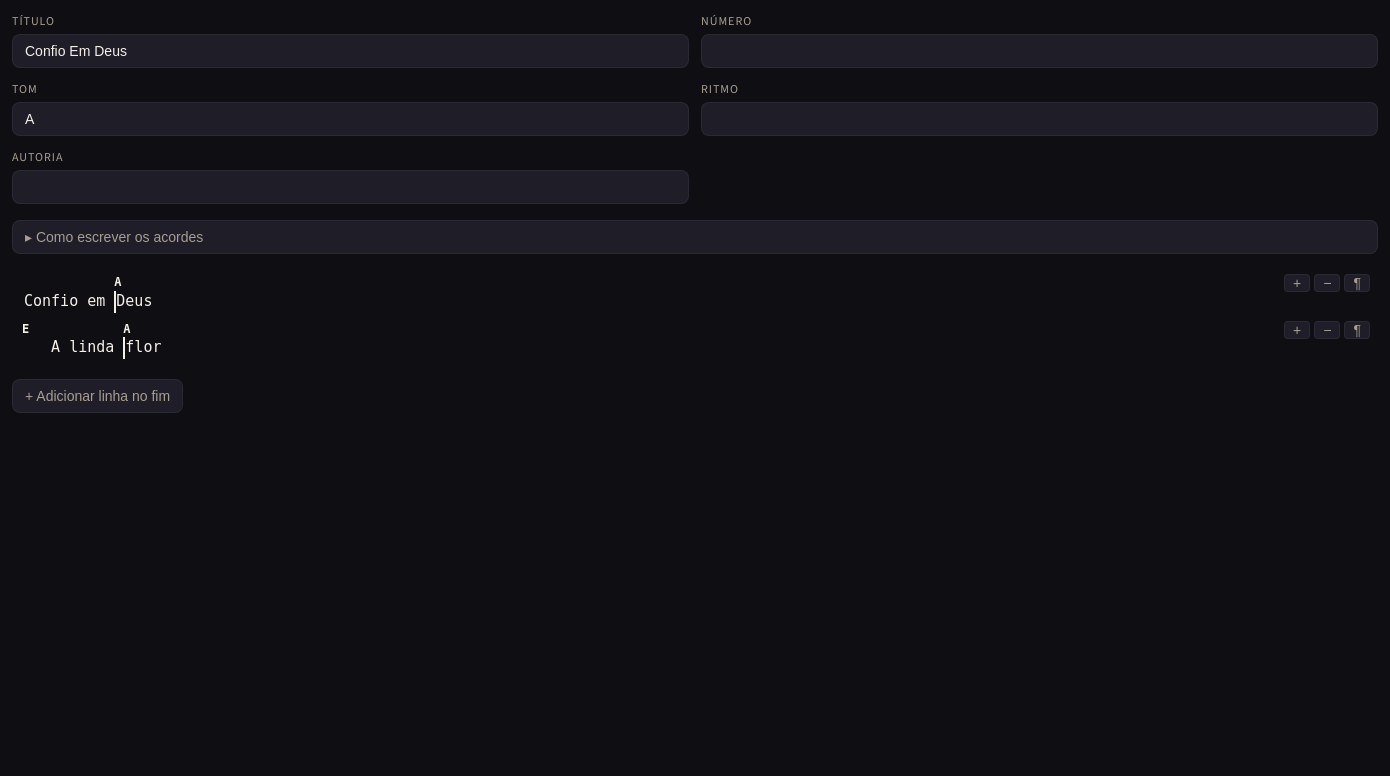
Test case: inserir símbolo do painel de dicas › cai na posição do cursor, devolve o foco e deixa o cursor depois do símbolo
Click the text "Confio em" at (68, 302), box [22,291,114,313]
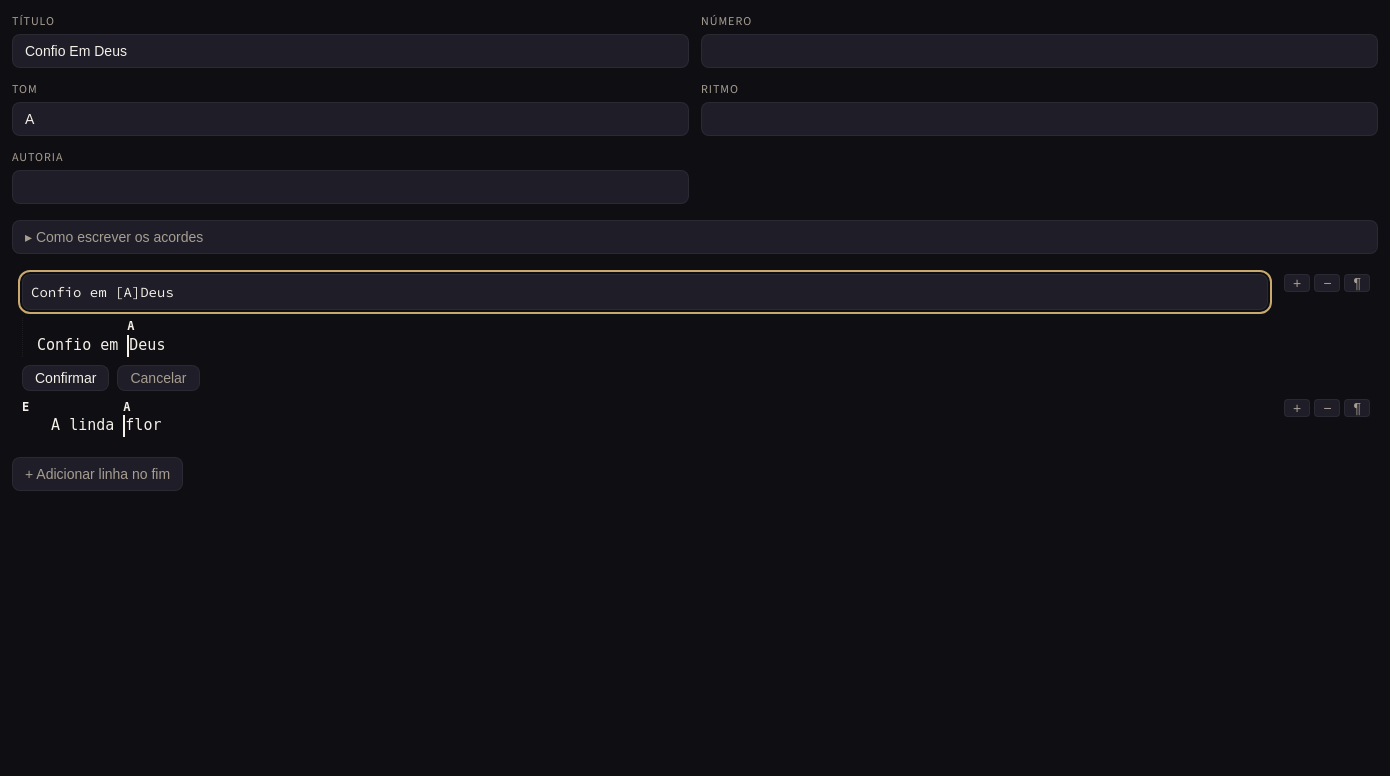
Now the field named "linha" holds "Confio em [A]Deus", box [22,274,1268,310]
Click the button "▸ Como escrever os acordes" at (118, 237), box [13,221,1377,253]
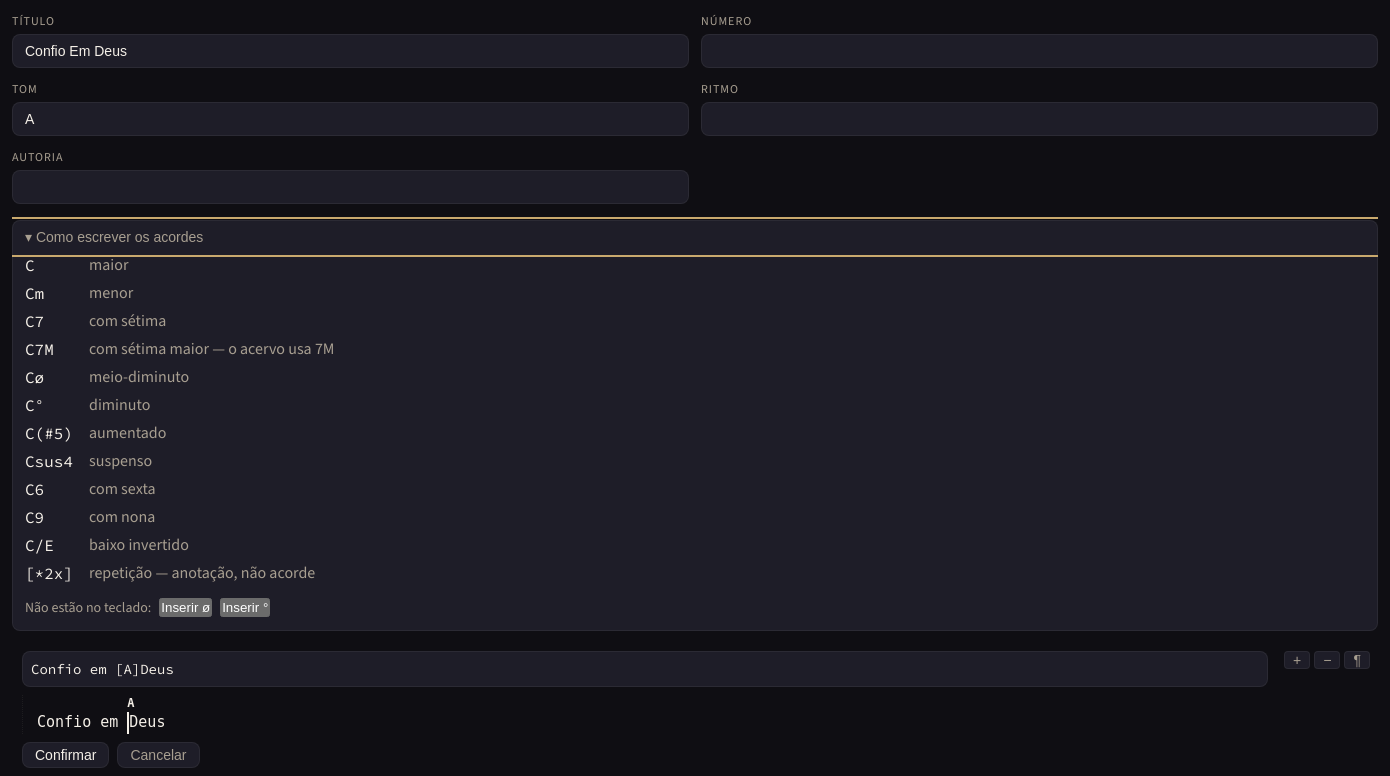
Click the button "Inserir ø" at (186, 608), box [159,598,212,617]
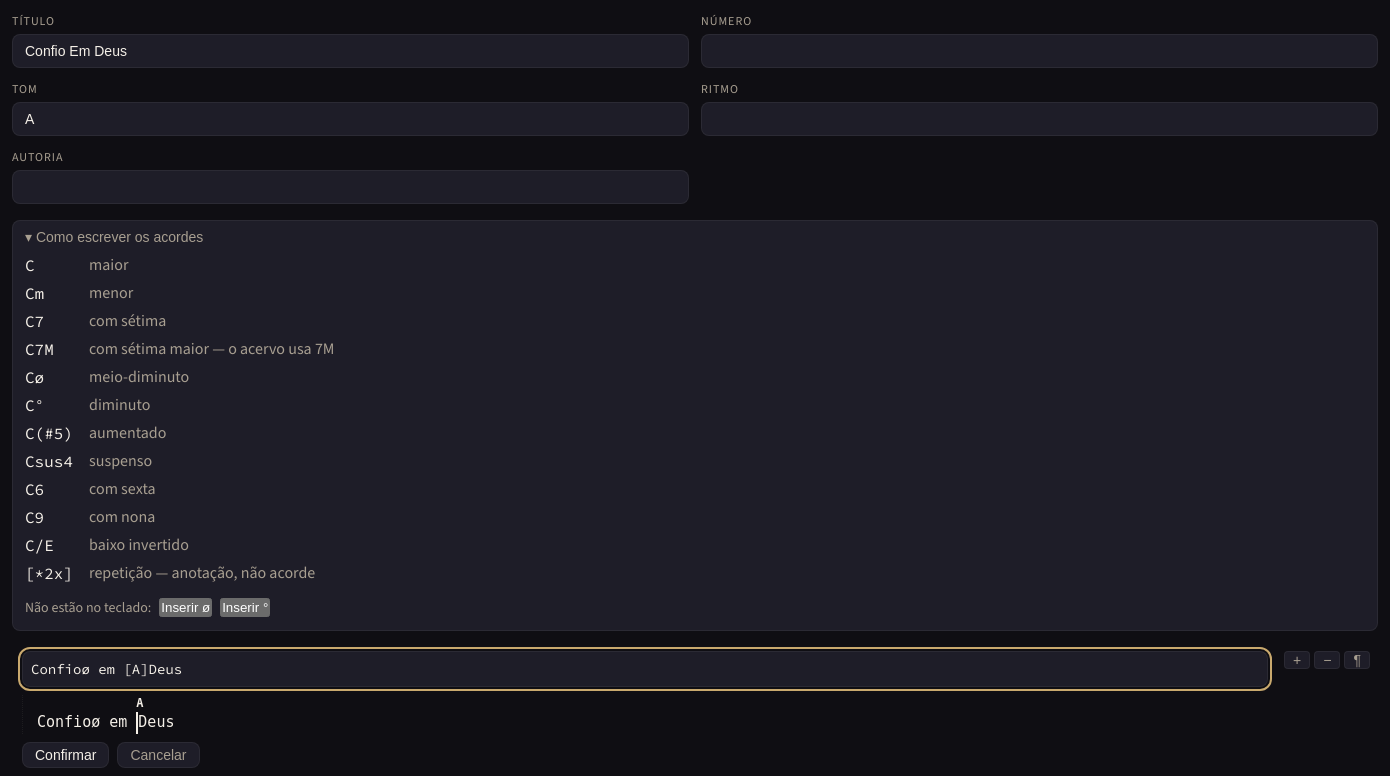
Now the field named "linha" holds "Confioø em [A]Deus", box [22,651,1268,687]
